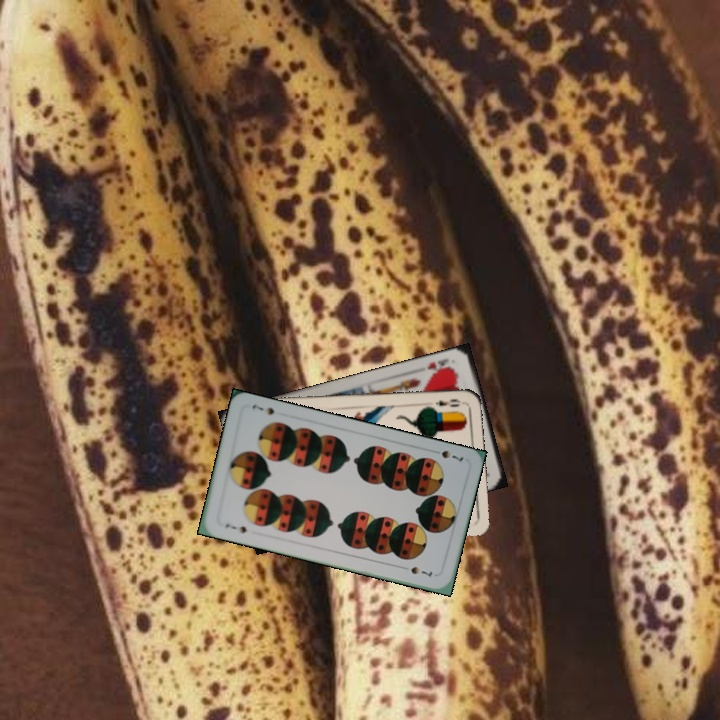EO: (431, 395, 463, 409)
HK: (423, 354, 456, 377)
S7: (427, 446, 466, 464), (221, 519, 249, 536)
